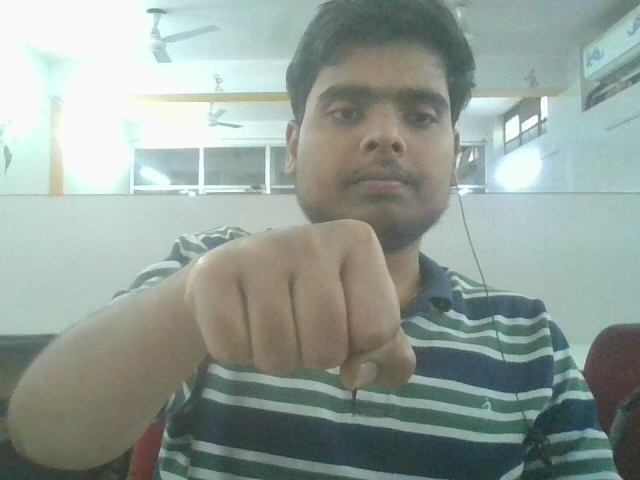Yes: (132, 200, 445, 397)
